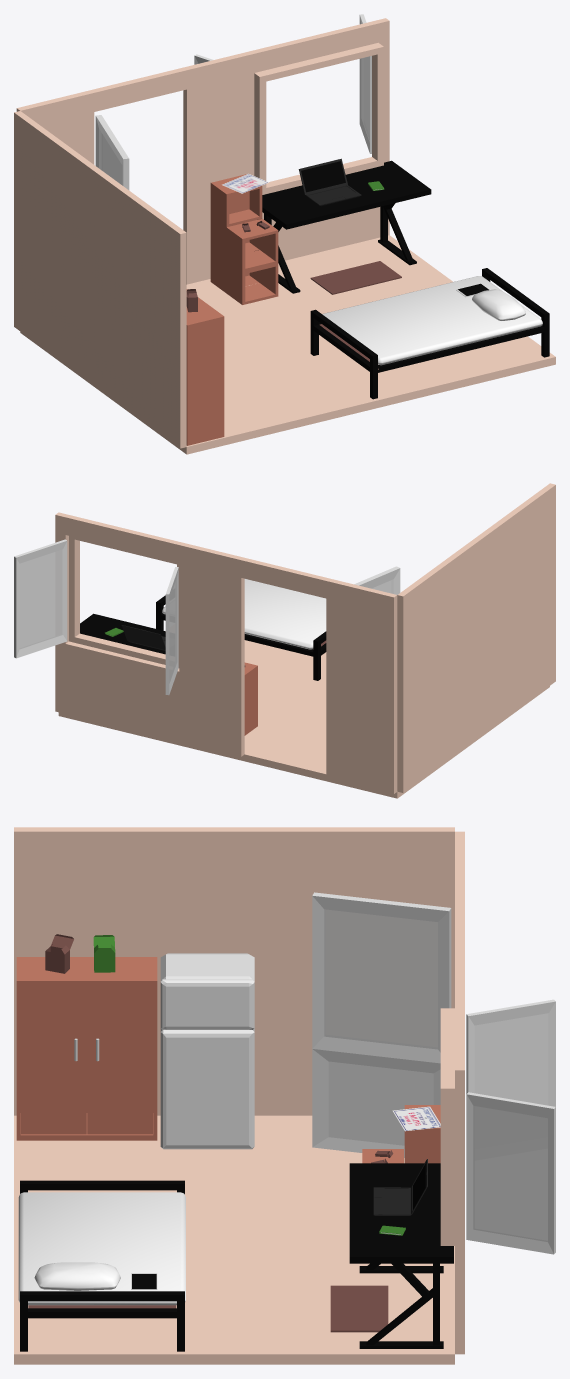
Rendered from room1-optimize(4).glb.
3 renders of one model, top to bottom at view 1: azimuth 30°, elevation 25°; view 2: azimuth 150°, elevation 25°; view 3: azimuth 270°, elevation 25°, orthographic. The views are drawn at different scales.
Visible parts, largest first — view 1: wall, floor, mattress, drawerBody, window bevel, tableSurface, sideboardSmall, sideboardBig, carpet, door, windowDoor, laptopScreen (+7 smaller); view 2: wall, floor, windowDoor, mattress, window bevel, tableSurface, sideboardSmall, door, laptopScreen, bedLegVertical3; view 3: wall, floor, door, windowDoor, mattress, refridgeratorDoor2, drawerDoor1, drawerDoor2, tableSurface, drawerBody, refridgeratorDoor1, window bevel (+11 smaller).
Part boxes in pixels (bbox=[...]): wall: bbox=[14, 18, 389, 448]; floor: bbox=[20, 235, 555, 454]; mattress: bbox=[322, 276, 542, 365]; drawerBody: bbox=[186, 289, 224, 445]; window bevel: bbox=[254, 42, 383, 194]; tableSurface: bbox=[262, 160, 431, 229]; sideboardSmall: bbox=[226, 219, 278, 304]; sideboardBig: bbox=[210, 174, 262, 293]; carpet: bbox=[310, 261, 401, 294]; door: bbox=[95, 115, 129, 190]; windowDoor: bbox=[194, 14, 371, 153]; laptopScreen: bbox=[298, 158, 347, 194]; wall: bbox=[55, 483, 555, 793]; floor: bbox=[58, 631, 549, 798]; windowDoor: bbox=[14, 539, 178, 695]; mattress: bbox=[162, 579, 326, 649]; window bevel: bbox=[69, 536, 179, 667]; tableSurface: bbox=[80, 613, 165, 654]; sideboardSmall: bbox=[244, 662, 257, 735]; door: bbox=[354, 566, 400, 594]; laptopScreen: bbox=[121, 625, 165, 649]; bedLegVertical3: bbox=[161, 613, 313, 656]; wall: bbox=[14, 827, 464, 1354]; floor: bbox=[14, 1115, 454, 1364]; door: bbox=[312, 892, 451, 1157]; windowDoor: bbox=[466, 999, 555, 1254]; mattress: bbox=[18, 1192, 185, 1305]; refridgeratorDoor2: bbox=[160, 1030, 254, 1149]; drawerDoor1: bbox=[21, 987, 86, 1134]; drawerDoor2: bbox=[87, 987, 152, 1134]; tableSurface: bbox=[349, 1163, 453, 1263]; drawerBody: bbox=[16, 957, 157, 1140]; refridgeratorDoor1: bbox=[160, 979, 254, 1029]; window bevel: bbox=[440, 1008, 454, 1245].
Size of the model in its own units: 3.02 by 1.66 by 2.76.
Materials: 14 (1 with a texture image).
